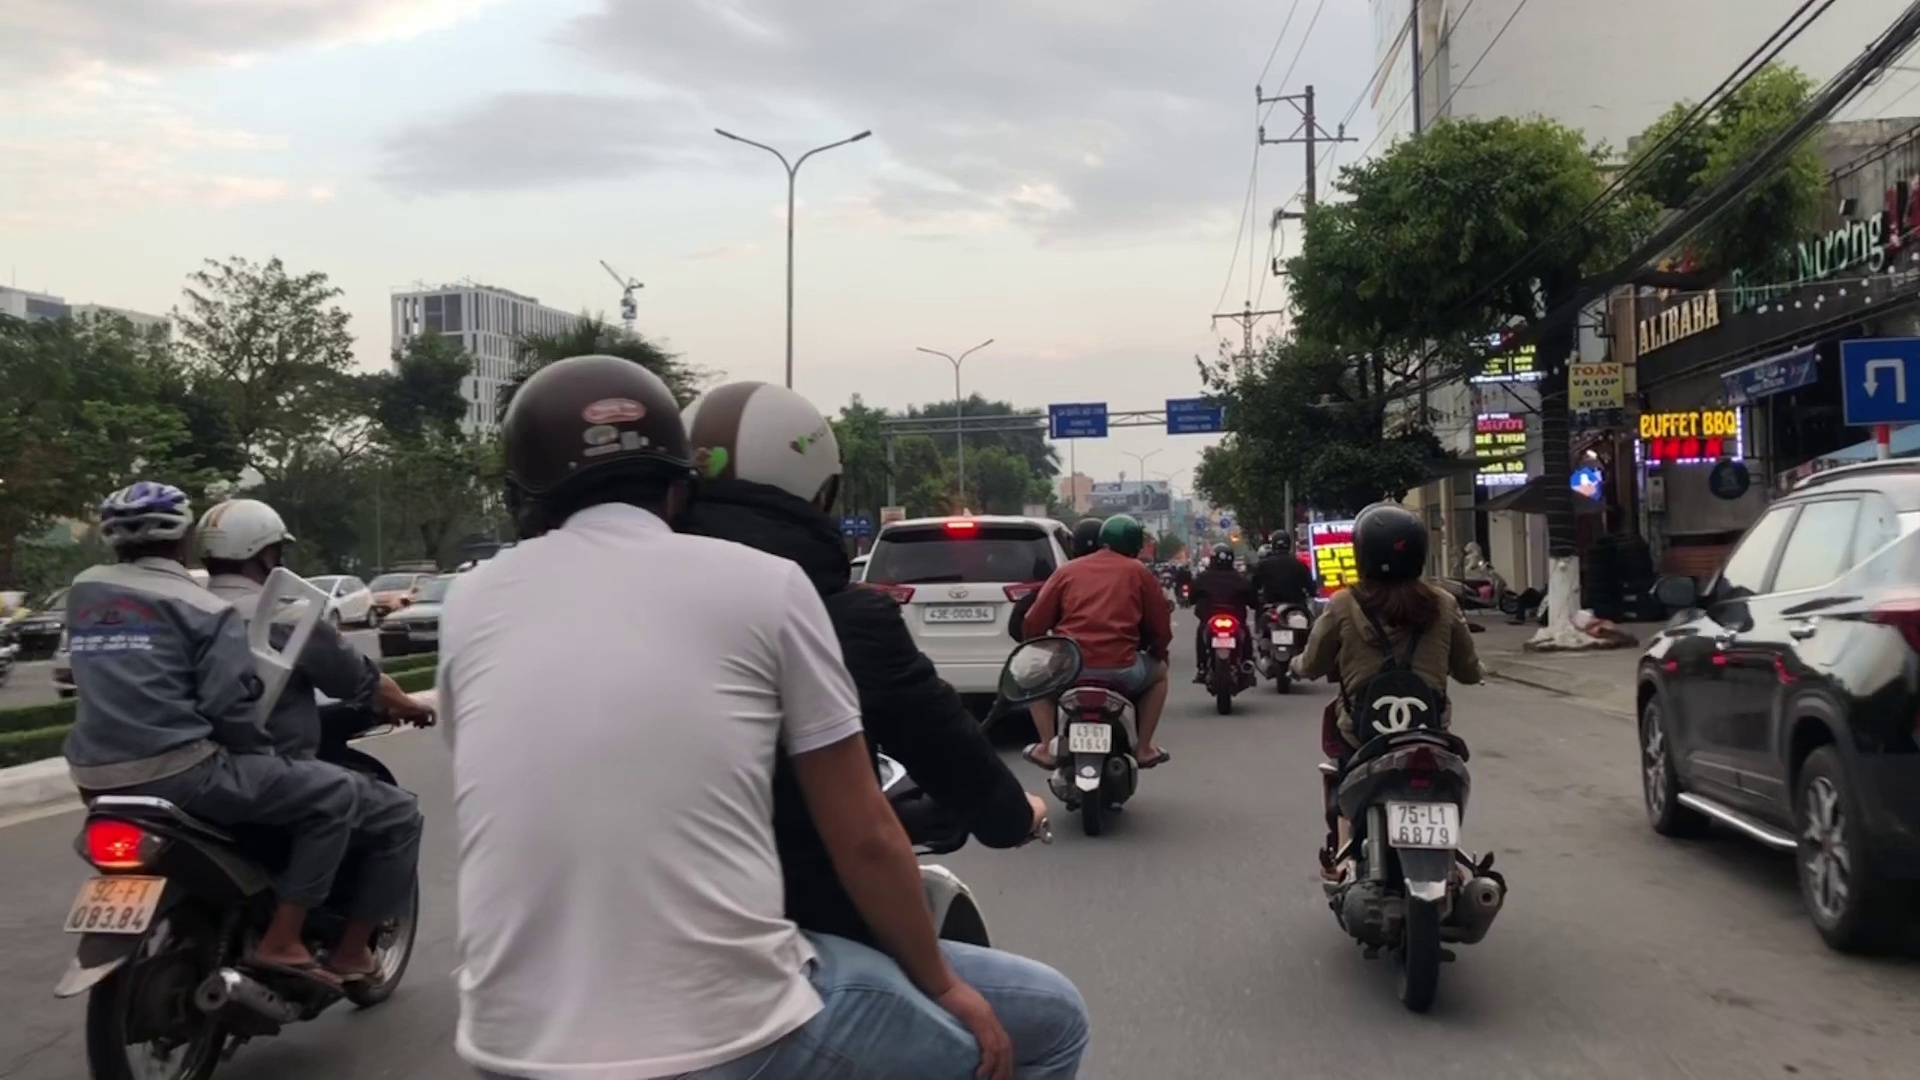Bien khac: (1838, 342, 1920, 429)
